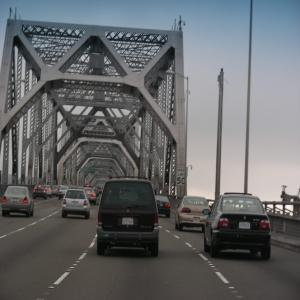Vehicle-registration-plate: (122, 218, 134, 227), (240, 223, 251, 231), (194, 219, 202, 224), (13, 200, 18, 205), (74, 202, 79, 207)
